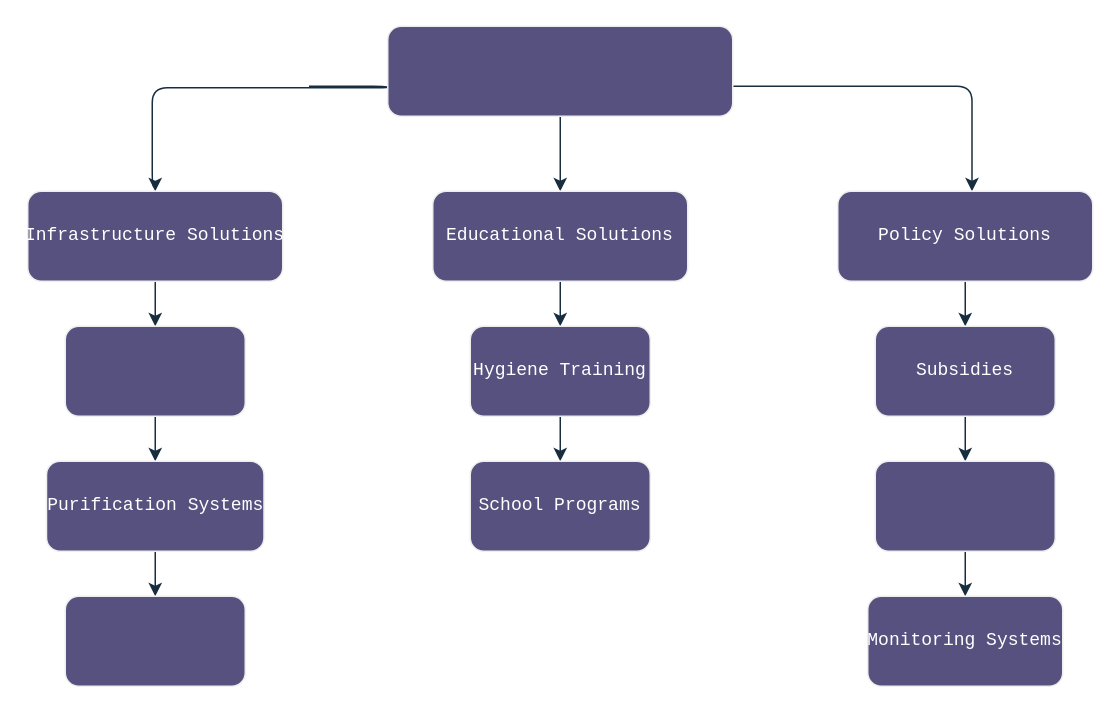
Image size: 1119x713. Some labels were removed from this diagram. The centre of each missing label's shape, as x and y in pixels:
"Boreholes" goes at point 154,370.
"Improving Access to Clean Water" goes at point 559,70.
"NGO Partnerships" goes at point 964,505.
"Pipeline Repairs" goes at point 154,640.
